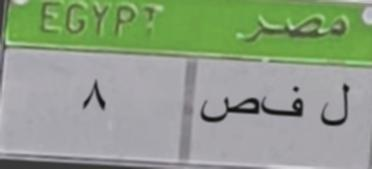8: (75, 78, 116, 117)
faa: (260, 82, 307, 122)
laam: (314, 82, 356, 138)
saad: (198, 90, 258, 128)
